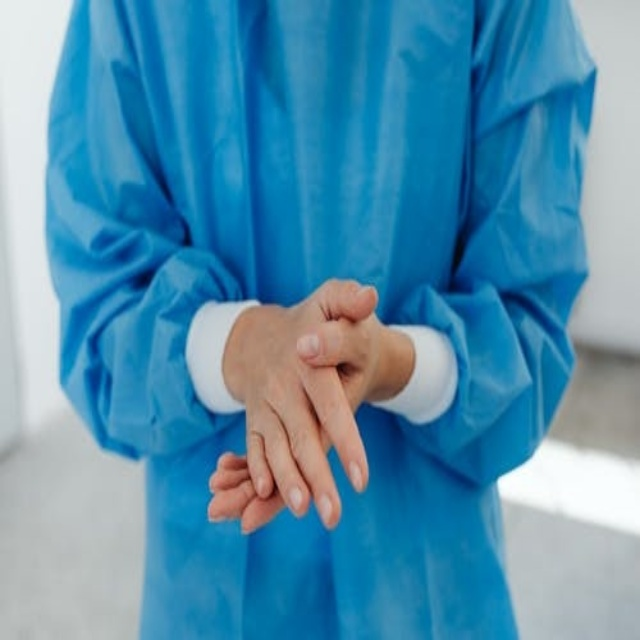Sin_guantes: (208, 274, 398, 537)
